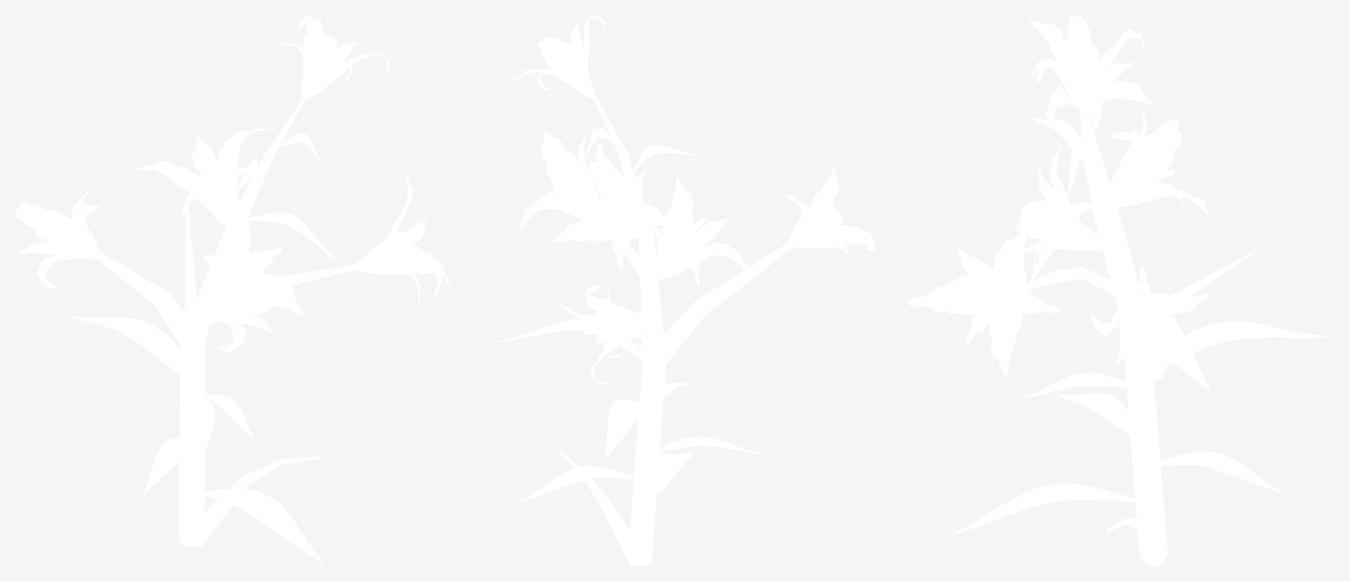
3 renders of one model, left to right at view 1: azimuth 30°, elevation 25°; view 2: azimuth 150°, elevation 25°; view 3: azimuth 270°, elevation 25°, orthographic. The views are drawn at different scales.
Parts seen in each view (by area): view 1: SM_MidnightLily_01_LOD0; view 2: SM_MidnightLily_01_LOD0; view 3: SM_MidnightLily_01_LOD0.
Boxes of the visible parts, x1,y1,x2,y2 form: SM_MidnightLily_01_LOD0: [15, 15, 451, 563]; SM_MidnightLily_01_LOD0: [487, 14, 875, 566]; SM_MidnightLily_01_LOD0: [908, 15, 1328, 566].
Size of the model in its own units: 0.9195 by 1.19 by 0.7833.
Materials: 1 (1 with a texture image).
